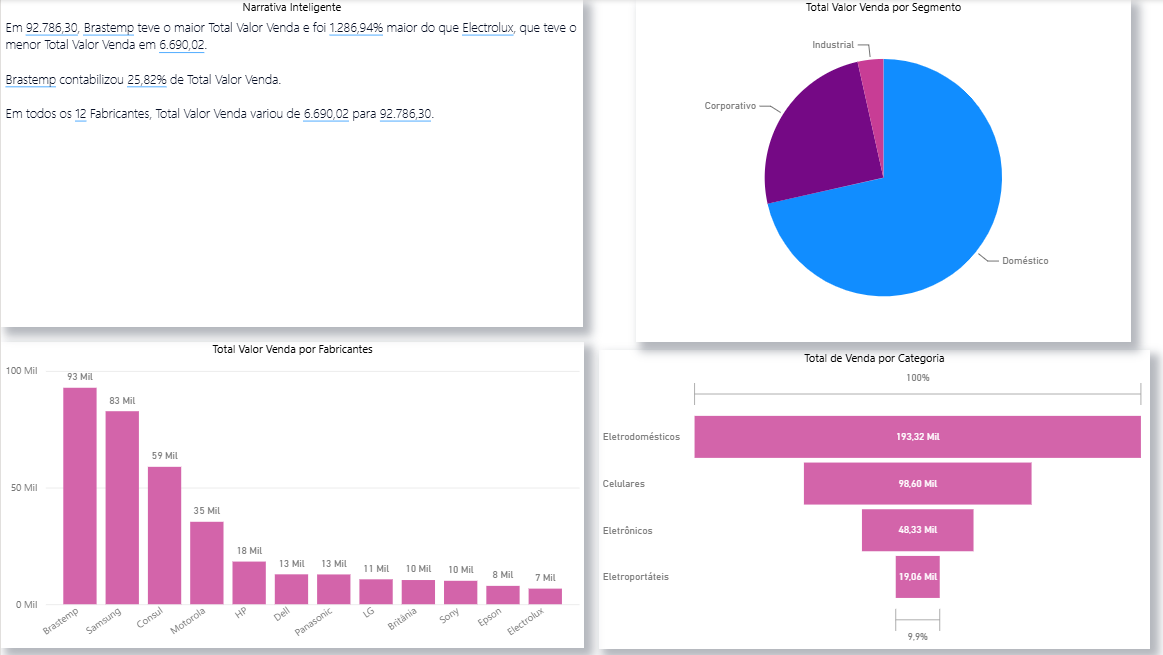

This screenshot's page, from the dashboard's own definition file:
{"tool":"powerbi","page":{"name":"Narrativa Inteligente","canvas":[1280,720],"ordinal":1},"visuals":[{"type":"pieChart","fields":{"Category":["Vendas.Segmento"],"Y":["Sum(Vendas.ValorVenda)"]},"box":[696.7,0,543.6,376.6],"z":0},{"type":"columnChart","fields":{"Category":["Vendas.Fabricante"],"Y":["Sum(Vendas.ValorVenda)"]},"box":[0,376.6,640.1,336.6],"z":1000},{"type":"funnel","fields":{"Category":["Vendas.Categoria"],"Y":["Sum(Vendas.ValorVenda)"]},"box":[655.3,384.9,605.6,328.3],"z":2000},{"type":"textbox","title":"Narrativa Inteligente","box":[0,0,638.8,360.1],"z":3000}]}

Visuals, with their boxes in screenshot pixels (x1, y1, x2, y2), scaled from the page's 1280x720 canvas onto the 1163x655 screenshot:
pieChart - Vendas.Segmento x Sum(Vendas.ValorVenda): Rect(633, 0, 1127, 343)
columnChart - Vendas.Fabricante x Sum(Vendas.ValorVenda): Rect(0, 343, 582, 649)
funnel - Vendas.Categoria x Sum(Vendas.ValorVenda): Rect(595, 350, 1146, 649)
"Narrativa Inteligente" textbox: Rect(0, 0, 580, 328)
